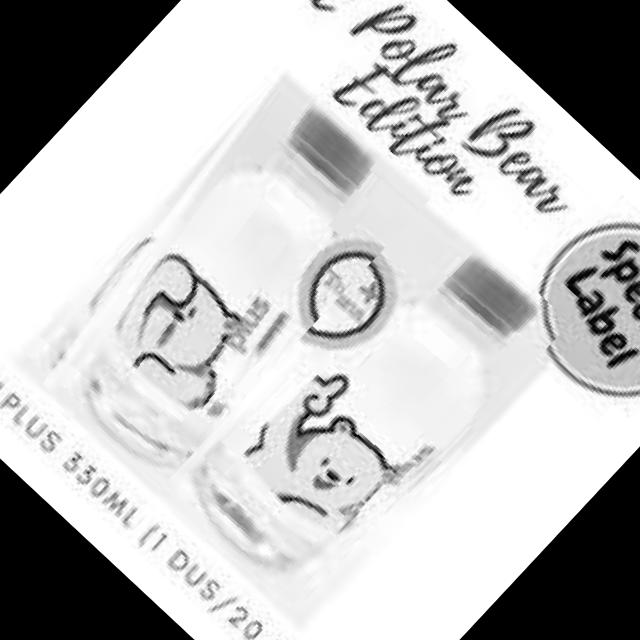plastic bottle: (8, 55, 436, 492), (160, 201, 571, 623)
